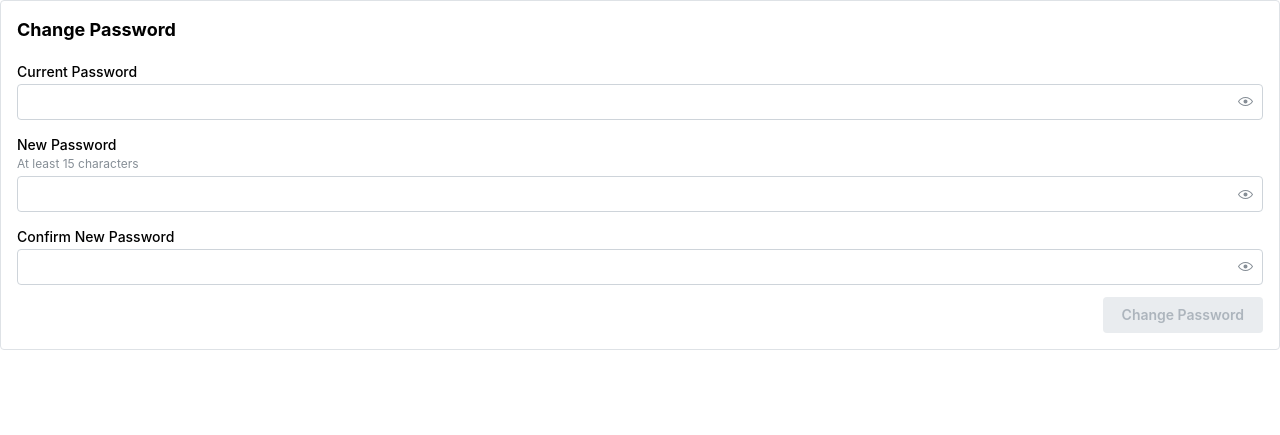
Scenario: PasswordSection › rejects passwords under 15 characters
Type "current-password-long-enough" into the password field labelled "Current Password" at [640, 102], box [18, 85, 1262, 119]
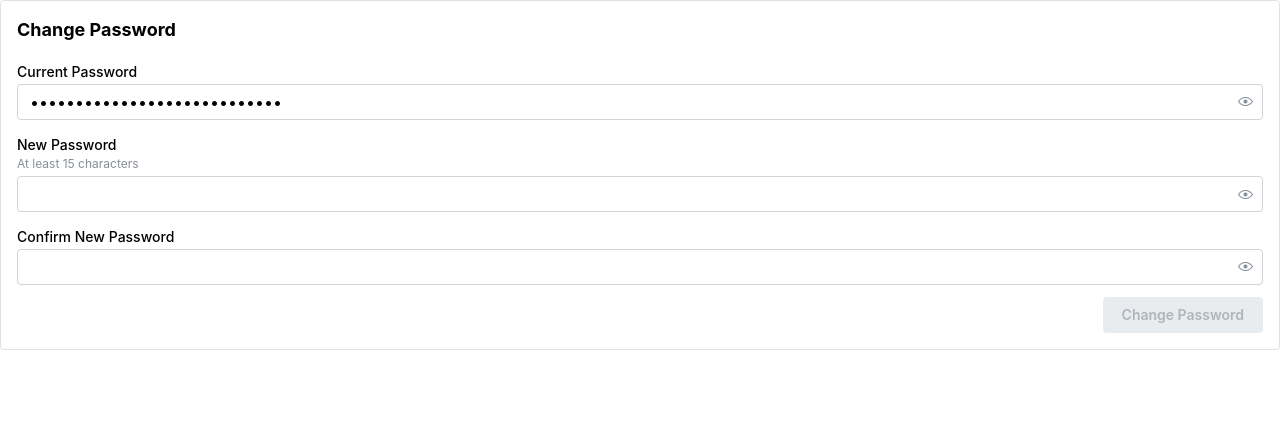
Type "short1" into the password field labelled "New Password" at [640, 194], box [18, 177, 1262, 211]
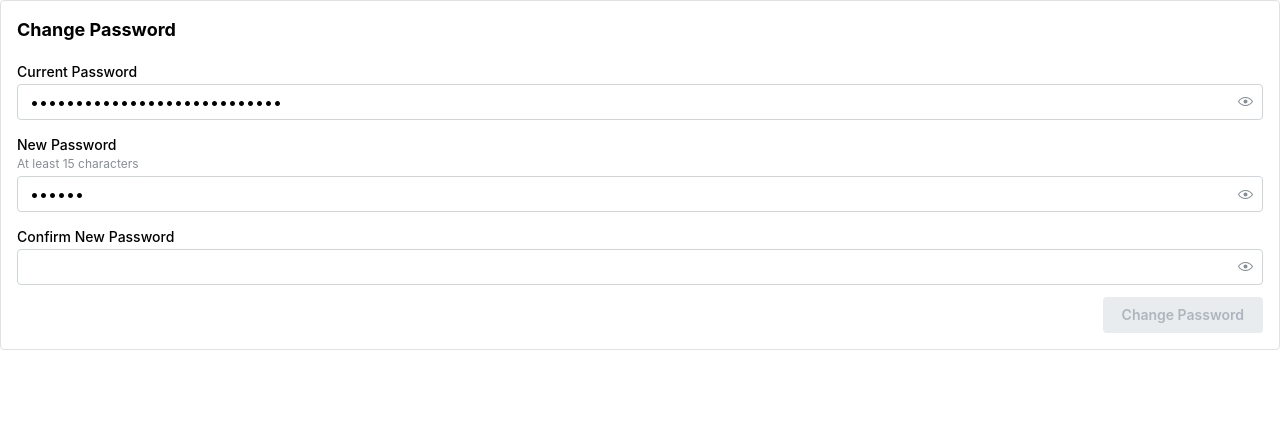
Type "short1" into the password field labelled "Confirm New Password" at [640, 267], box [18, 250, 1262, 284]
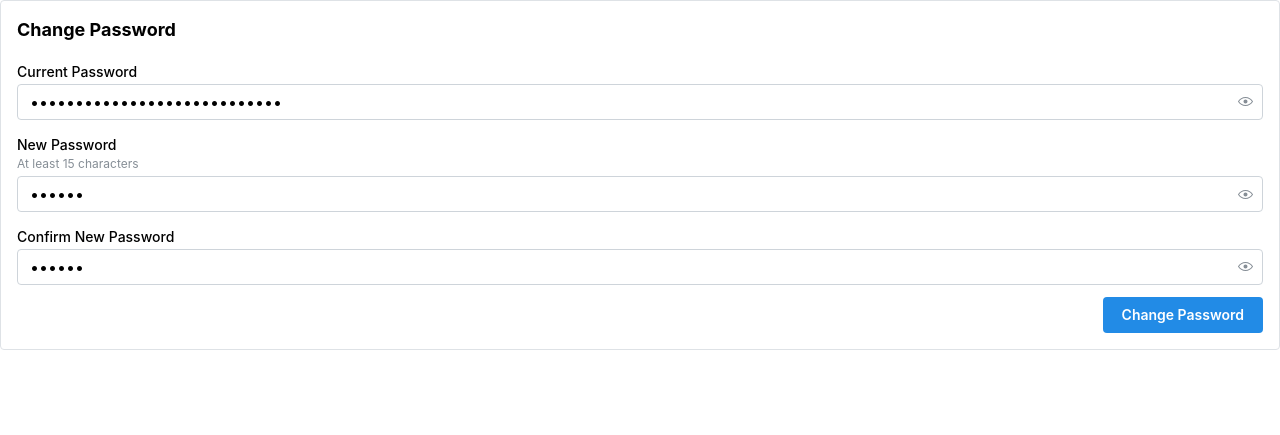
Click the button "Change Password" at [1183, 315], box [1103, 297, 1263, 333]
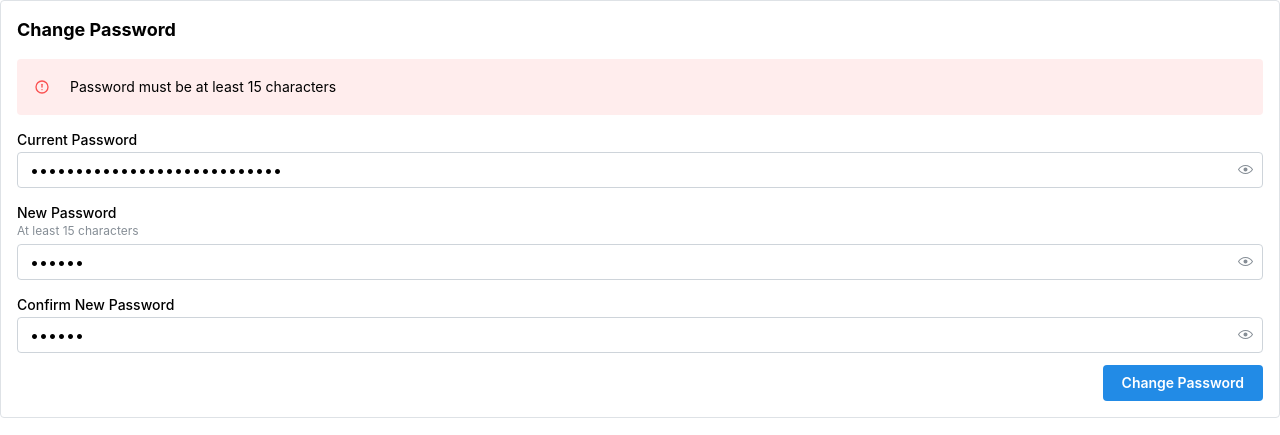
Expected: the message shows "at least 15 characters", [70, 78, 336, 95]
